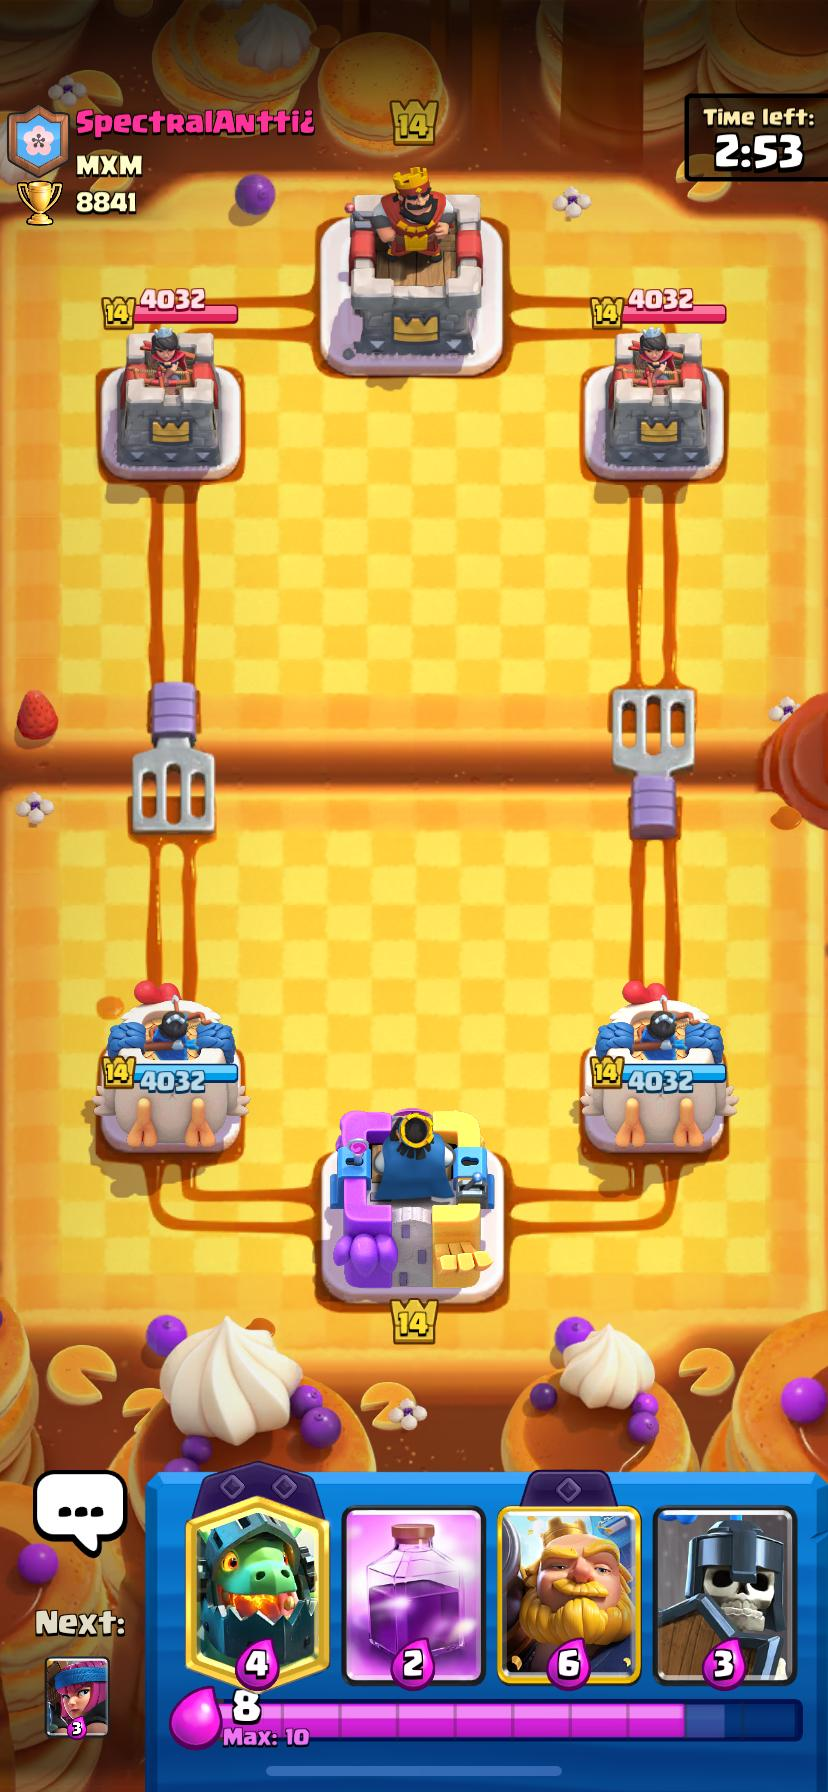EKingTower: (320, 168, 502, 376)
EnemyPrincessTower: (101, 326, 241, 481), (583, 328, 724, 481)
OwnKingTower: (323, 1109, 502, 1303)
OwnPrincessTower: (580, 982, 735, 1154), (93, 982, 248, 1152)
